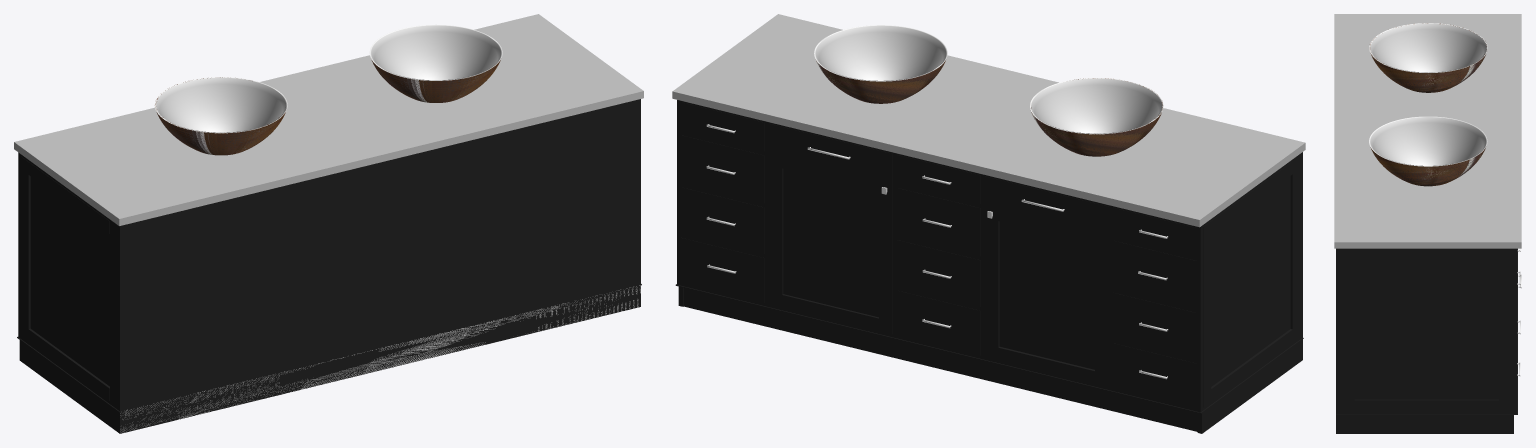
3 renders of one model, left to right at view 1: azimuth 30°, elevation 25°; view 2: azimuth 150°, elevation 25°; view 3: azimuth 270°, elevation 25°, orthographic. The views are drawn at different scales.
Visible parts, largest first — view 1: mesh21_mesh21-geometry, mesh26_mesh26-geometry, mesh24_mesh24-geometry, mesh25_mesh25-geometry; view 2: mesh21_mesh21-geometry, mesh26_mesh26-geometry, mesh25_mesh25-geometry, mesh24_mesh24-geometry, mesh18_mesh18-geometry; view 3: mesh21_mesh21-geometry, mesh26_mesh26-geometry, mesh25_mesh25-geometry, mesh24_mesh24-geometry.
Boxes of the visible parts, <box> form: mesh21_mesh21-geometry: <box>17,99,641,433</box>; mesh26_mesh26-geometry: <box>14,14,643,225</box>; mesh24_mesh24-geometry: <box>154,77,287,155</box>; mesh25_mesh25-geometry: <box>369,24,502,102</box>; mesh21_mesh21-geometry: <box>675,100,1303,433</box>; mesh26_mesh26-geometry: <box>672,14,1305,227</box>; mesh25_mesh25-geometry: <box>814,25,947,103</box>; mesh24_mesh24-geometry: <box>1030,78,1163,156</box>; mesh18_mesh18-geometry: <box>706,124,1168,379</box>; mesh21_mesh21-geometry: <box>1336,248,1517,433</box>; mesh26_mesh26-geometry: <box>1334,14,1521,248</box>; mesh25_mesh25-geometry: <box>1369,116,1487,186</box>; mesh24_mesh24-geometry: <box>1369,23,1487,92</box>.
Bounding box in the file's own units: 0.8659 × 0.3996 × 0.3009.
